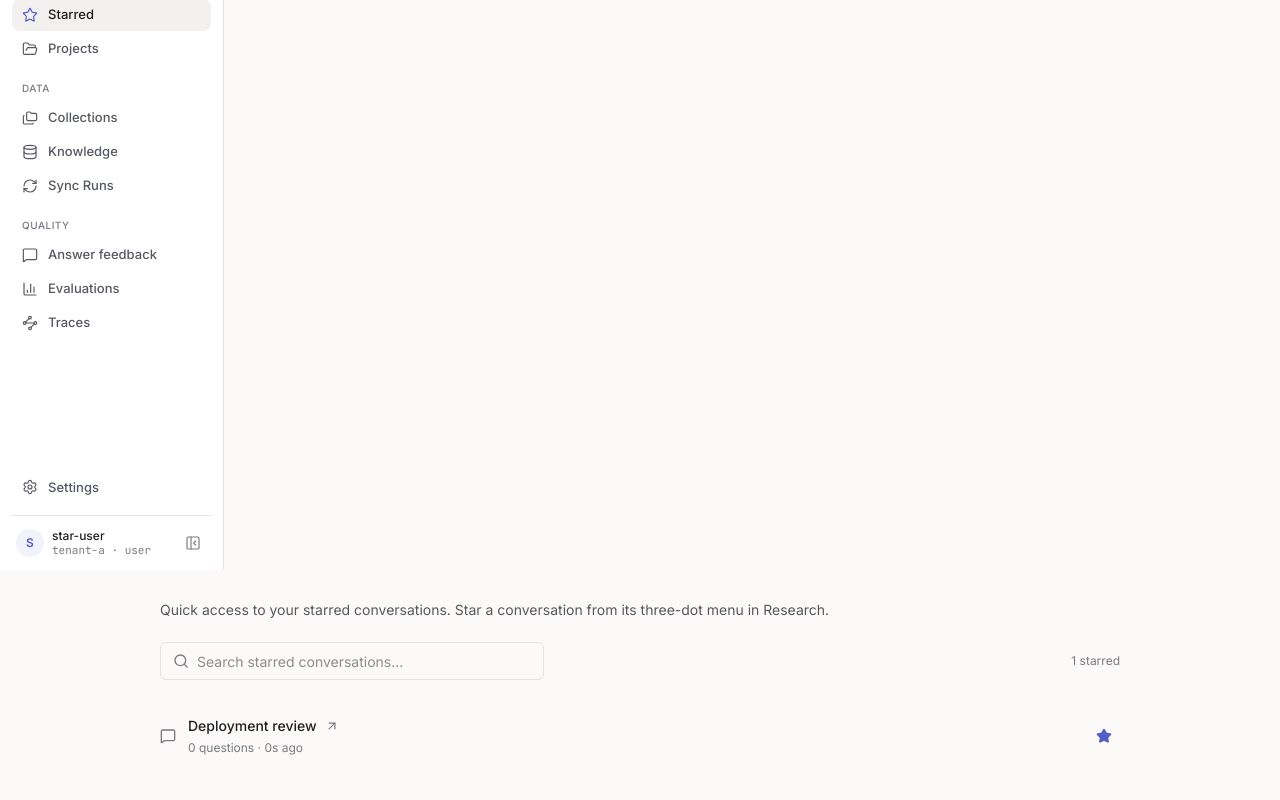
Starred research › persists unstar without deleting the conversation and supports undo
This screenshot has width=1280, height=800.
(page scrolled)
Click the button named "Unstar Deployment review". click: [1104, 736]
box: [1088, 720, 1120, 752]
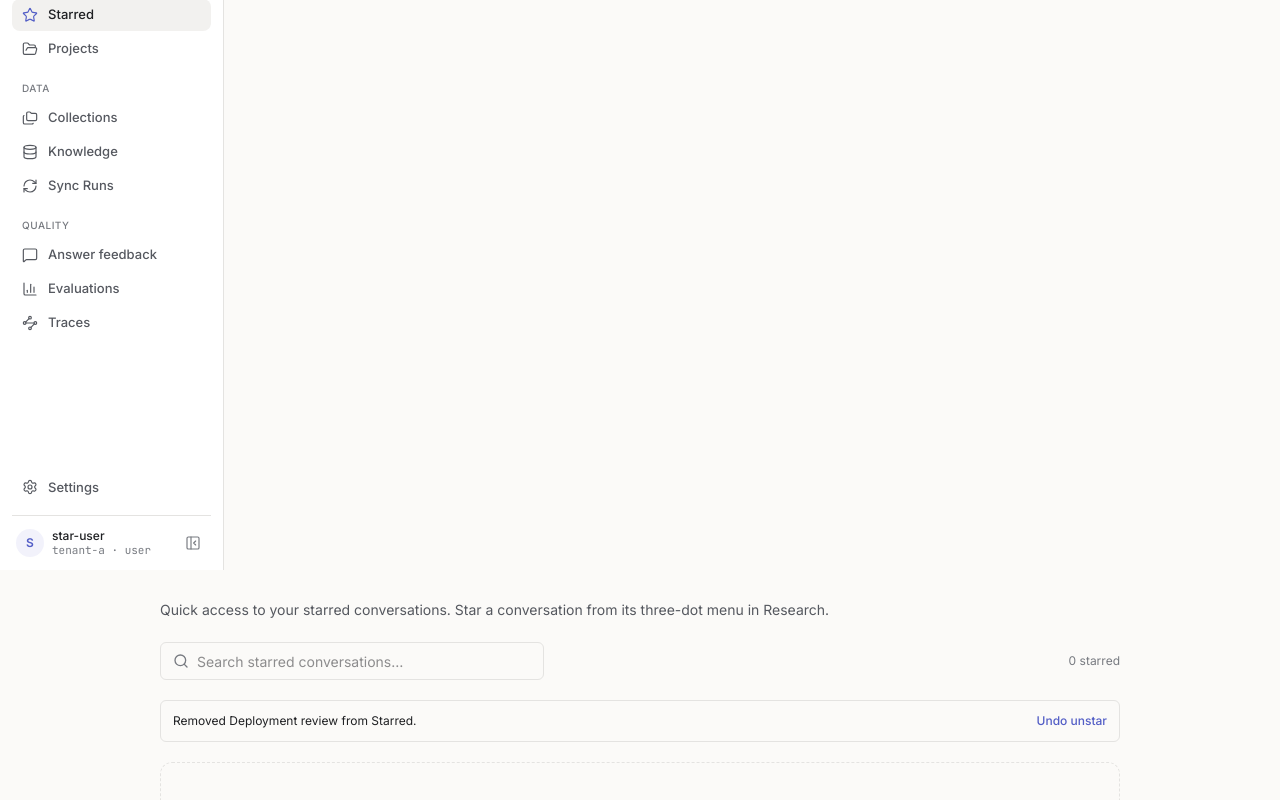
Click the button "Undo unstar". click: [1072, 721]
box: [1036, 713, 1107, 729]
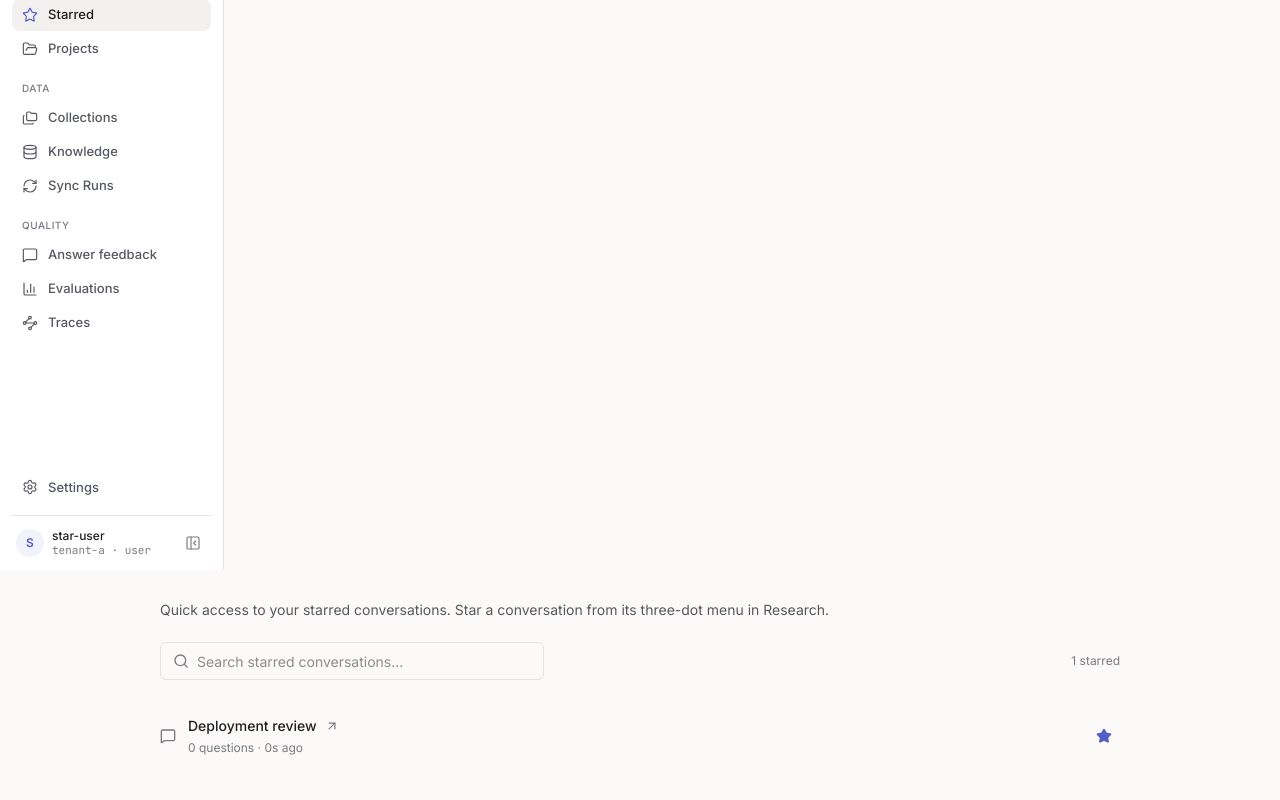
Expected: the list named "Starred conversations" shows "Deployment review", [188, 716, 1076, 756]
